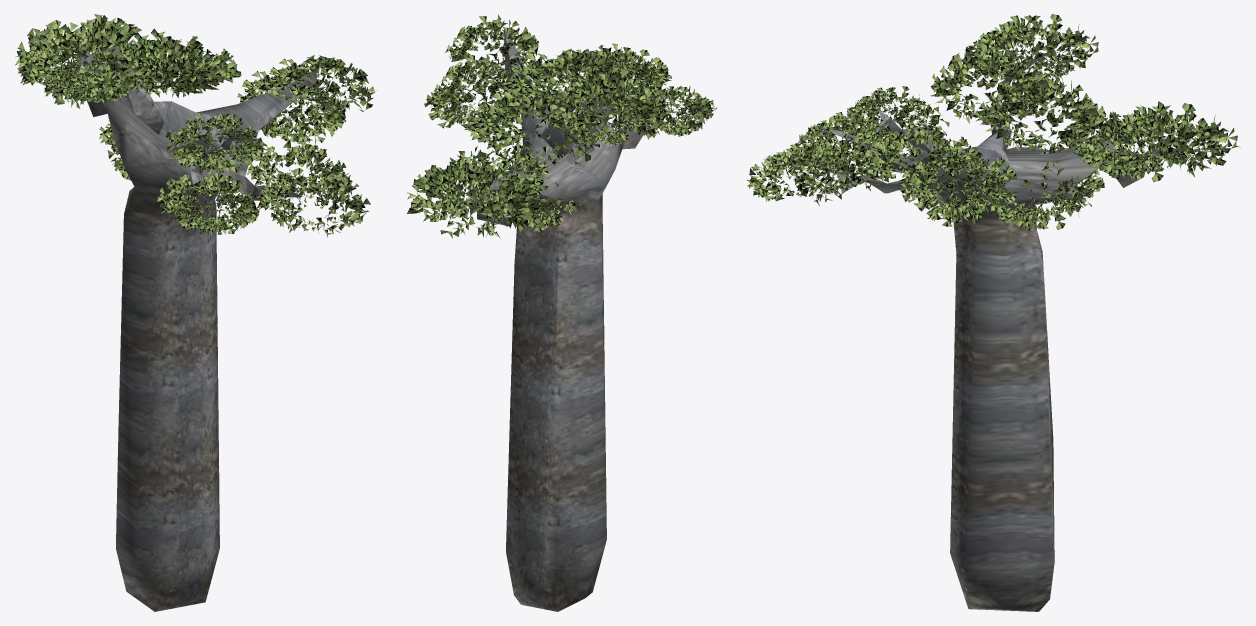
The model's file is baobab.glb.
3 views of the same model, side by side, from view 1: azimuth 30°, elevation 25°; view 2: azimuth 150°, elevation 25°; view 3: azimuth 270°, elevation 25° (orthographic). The views are drawn at different scales.
Parts seen in each view (by area): view 1: baobab; view 2: baobab; view 3: baobab.
Boxes of the visible parts, box(x1,y1,x2,y2) form: baobab: box(15, 14, 376, 611); baobab: box(407, 14, 717, 611); baobab: box(747, 14, 1240, 611).
Bounding box in the file's own units: 9.15 × 17.85 × 14.58.
2 materials, 2 textured.
